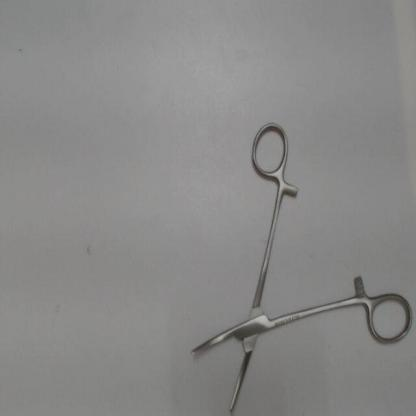Crile Artery Forceps: (182, 114, 415, 414)
